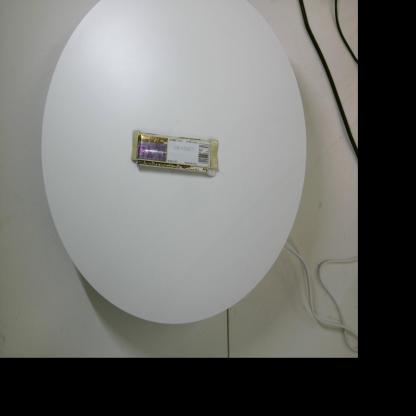Chocolate: (130, 130, 218, 176)
